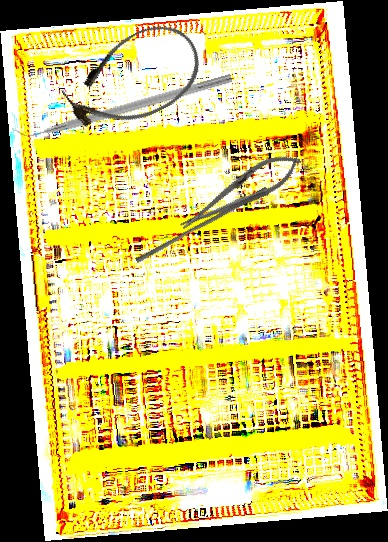Cannula: (53, 11, 214, 147)
Chopper: (10, 61, 233, 145)
Needle Holder: (172, 143, 308, 241)
Pusher: (134, 181, 269, 268)
